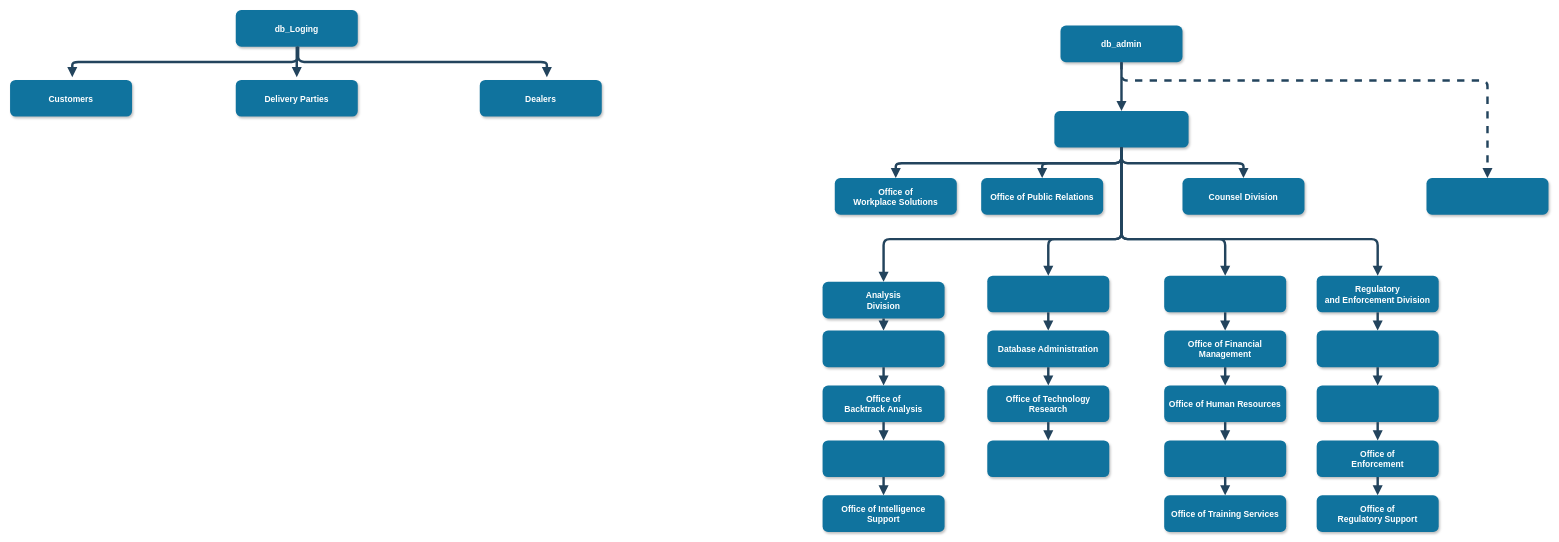
The diagram is 1559 pixels wide and 542 high, and some of its shapes have lost their labels. Each missing label, with the centre of its shape:
"Cooperation" goes at [1488,197].
"Department of Heuristic Support" goes at [884,459].
"Deputy Director" goes at [1122,130].
"IT Division" goes at [1049,294].
"Management Programs Division" goes at [1225,294].
"Office Compliance" goes at [1378,404].
"Office of Data Services" goes at [1049,459].
"Office of Global Support" goes at [884,349].
"Office of Management" goes at [1225,459].
"Office of Regulatory Policy" goes at [1378,349].
